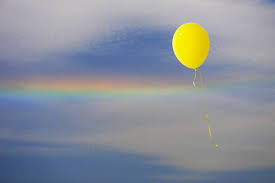Balloon: (172, 23, 210, 68)
